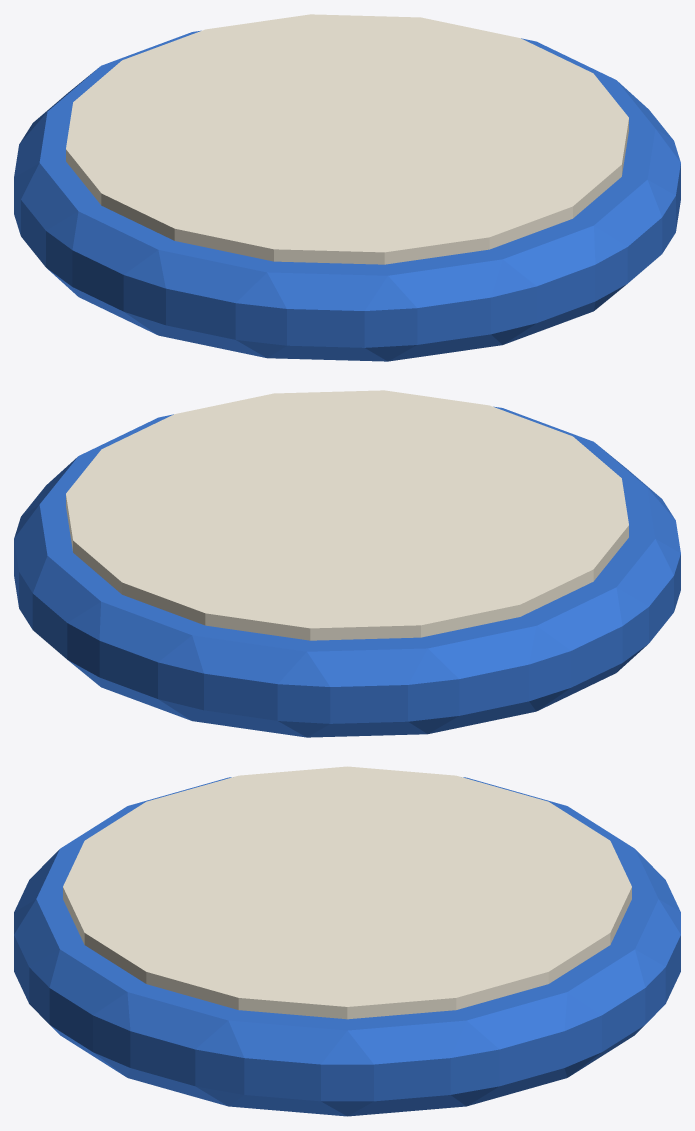
The model's file is small_blind_button.glb.
3 renders of one model, top to bottom at view 1: azimuth 30°, elevation 25°; view 2: azimuth 150°, elevation 25°; view 3: azimuth 270°, elevation 25°, orthographic.
Visible parts, largest first — view 1: small_blind_button; view 2: small_blind_button; view 3: small_blind_button.
Part boxes in pixels (x1,y1,x2,y2): small_blind_button: (14,14,680,361); small_blind_button: (14,390,680,737); small_blind_button: (14,766,680,1116).
Bounding box in the file's own units: 0.0984 × 0.016 × 0.0984.
